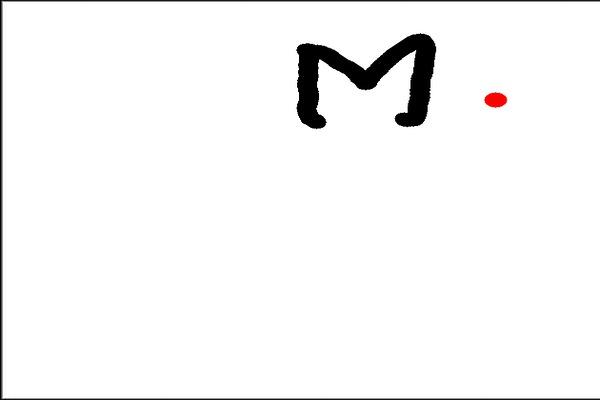M: (290, 27, 434, 129)
